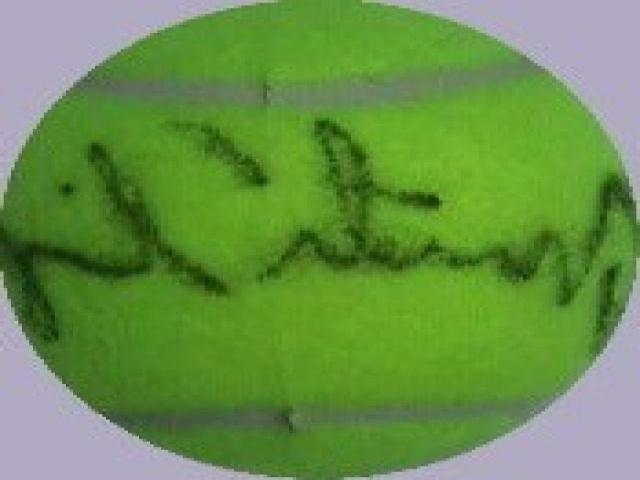tennis-ball: (1, 0, 638, 478)
